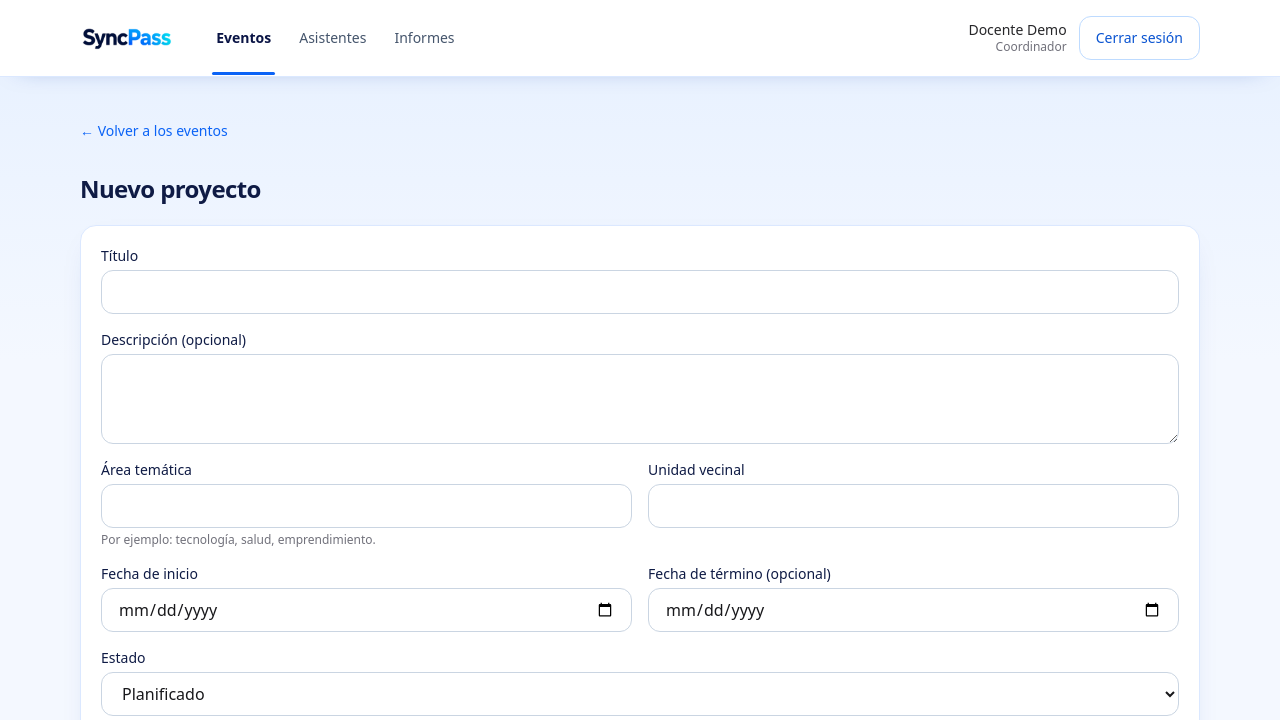
Test: formulario de proyecto › una fecha de término anterior a la de inicio se rechaza antes de enviar
Type "X" into the field labelled "Título".
click(640, 292); type("X")  # box [101,270,1179,314]
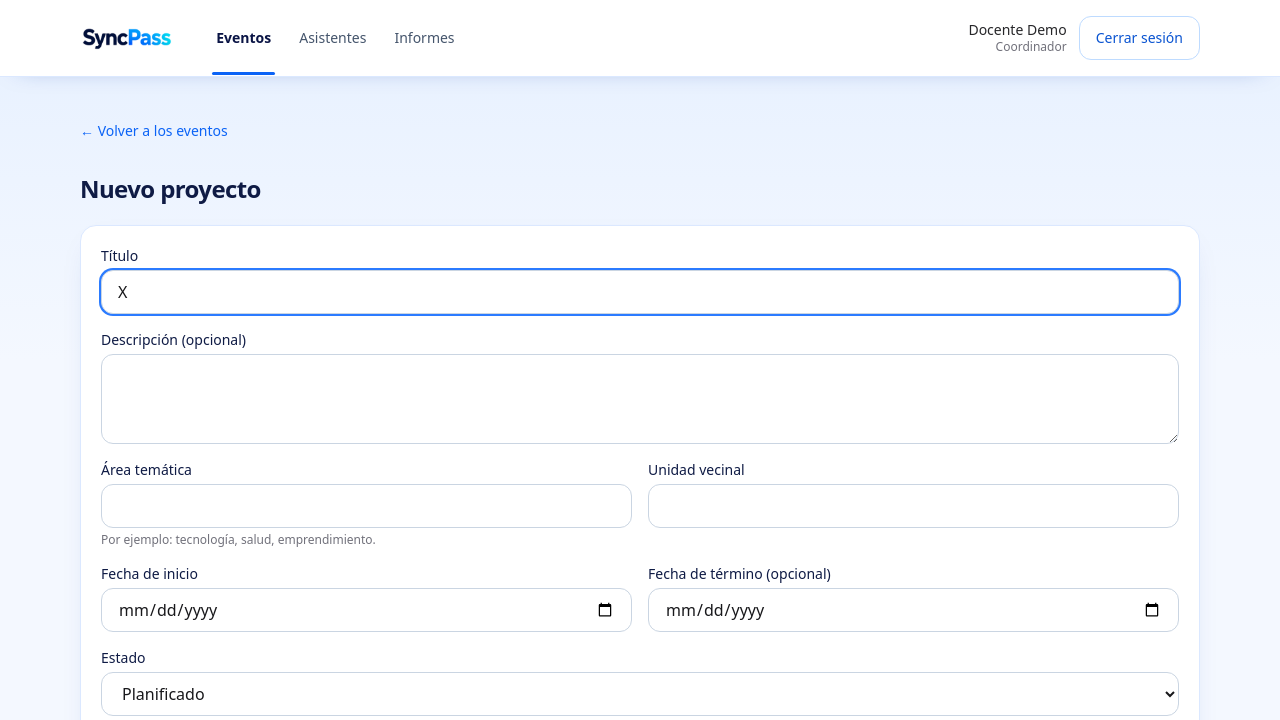
Type "a" into the field labelled "Área temática".
click(366, 506); type("a")  # box [101,484,632,528]
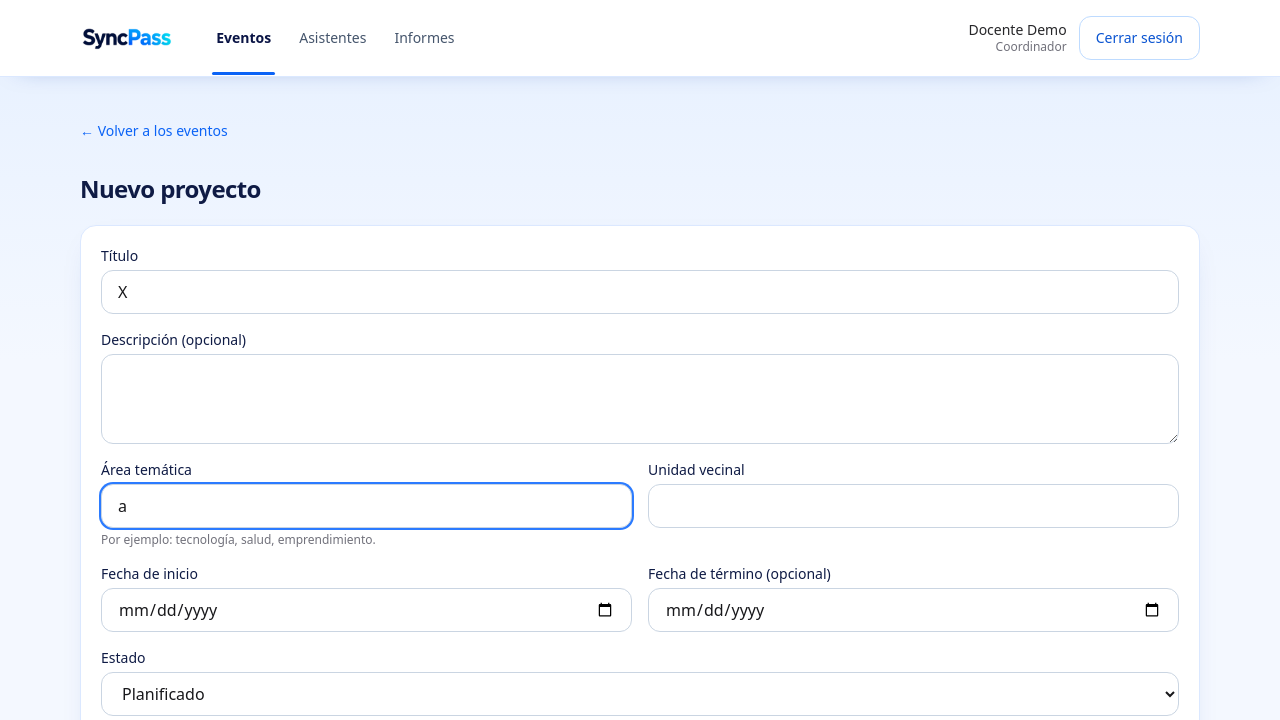
Type "b" into the field labelled "Unidad vecinal".
click(914, 506); type("b")  # box [648,484,1179,528]
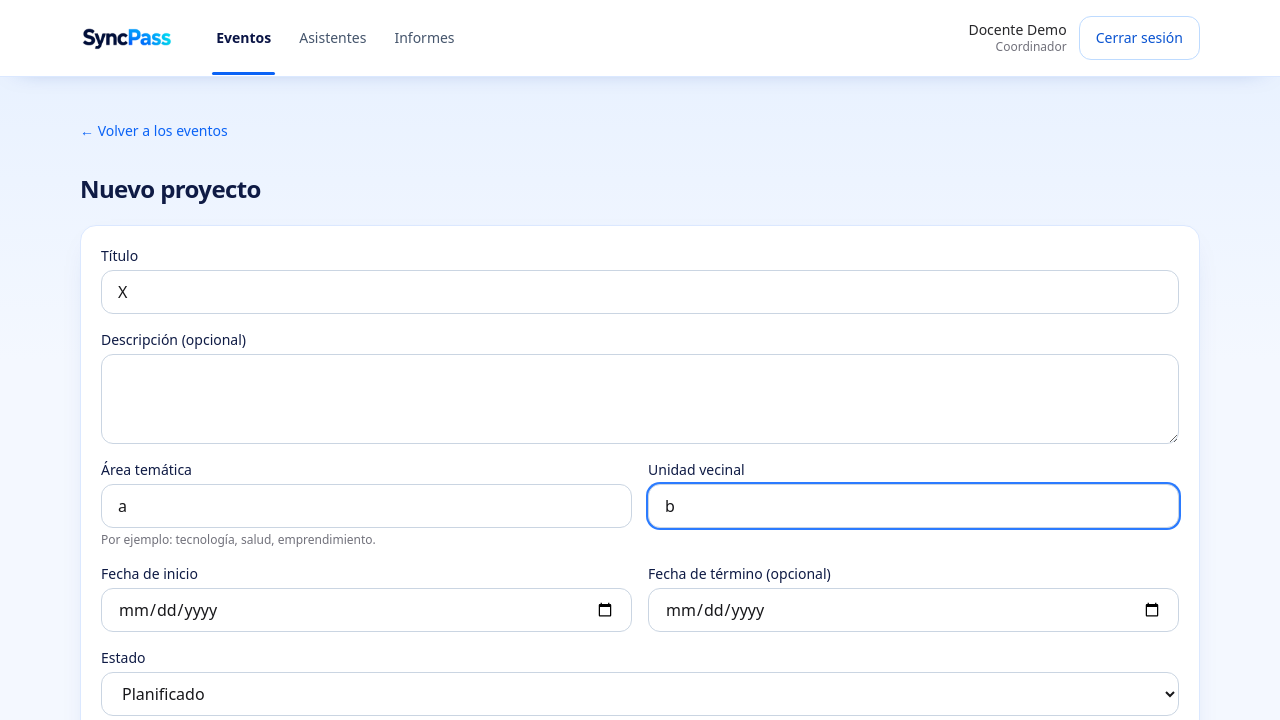
Type "2026-12-01" into the date field labelled "Fecha de inicio".
click(366, 610); type("2026-12-01")  # box [101,588,632,632]
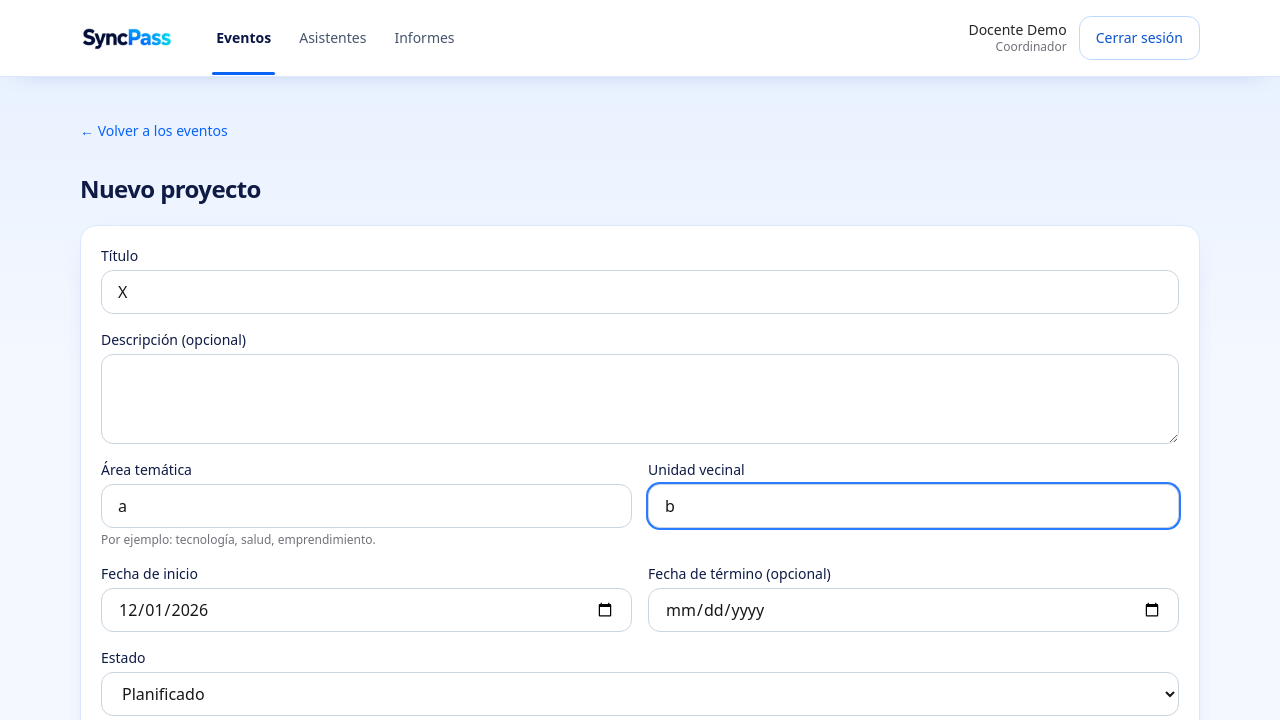
Type "2026-09-01" into the date field labelled "Fecha de término (opcional)".
click(914, 610); type("2026-09-01")  # box [648,588,1179,632]
(page scrolled)
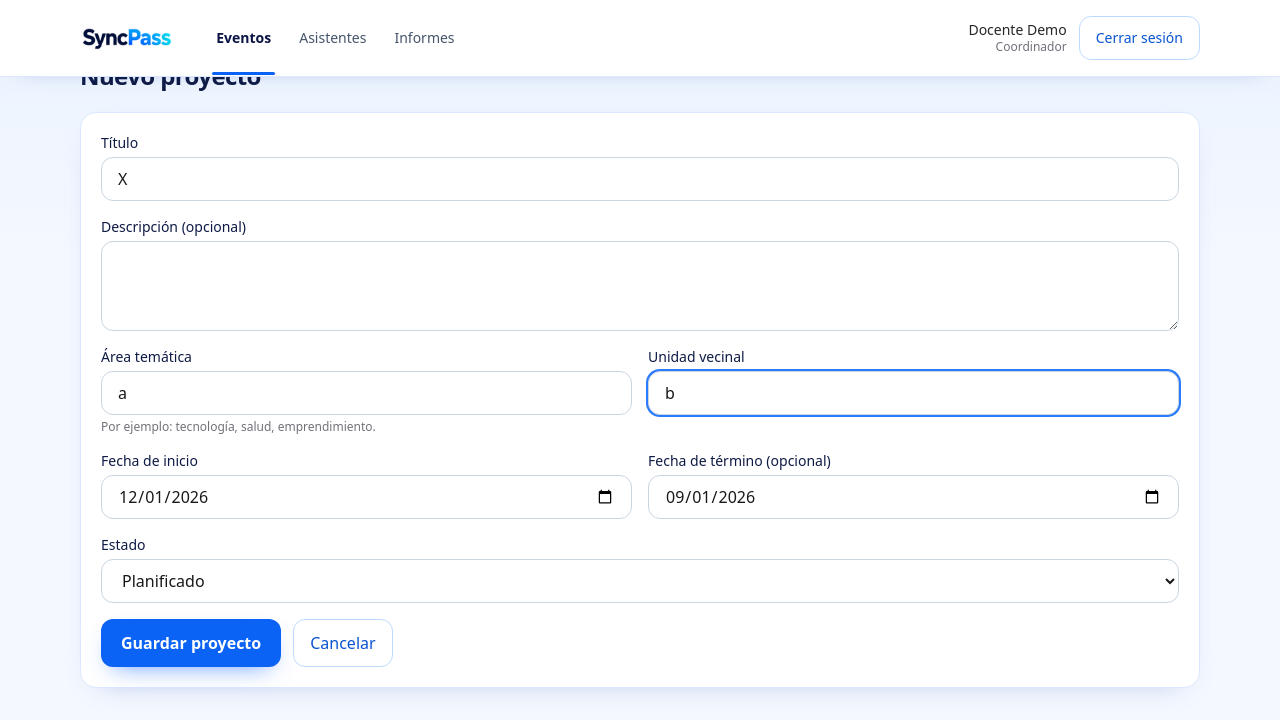
Click the button "Guardar proyecto".
click(191, 643)  # box [101,619,281,667]
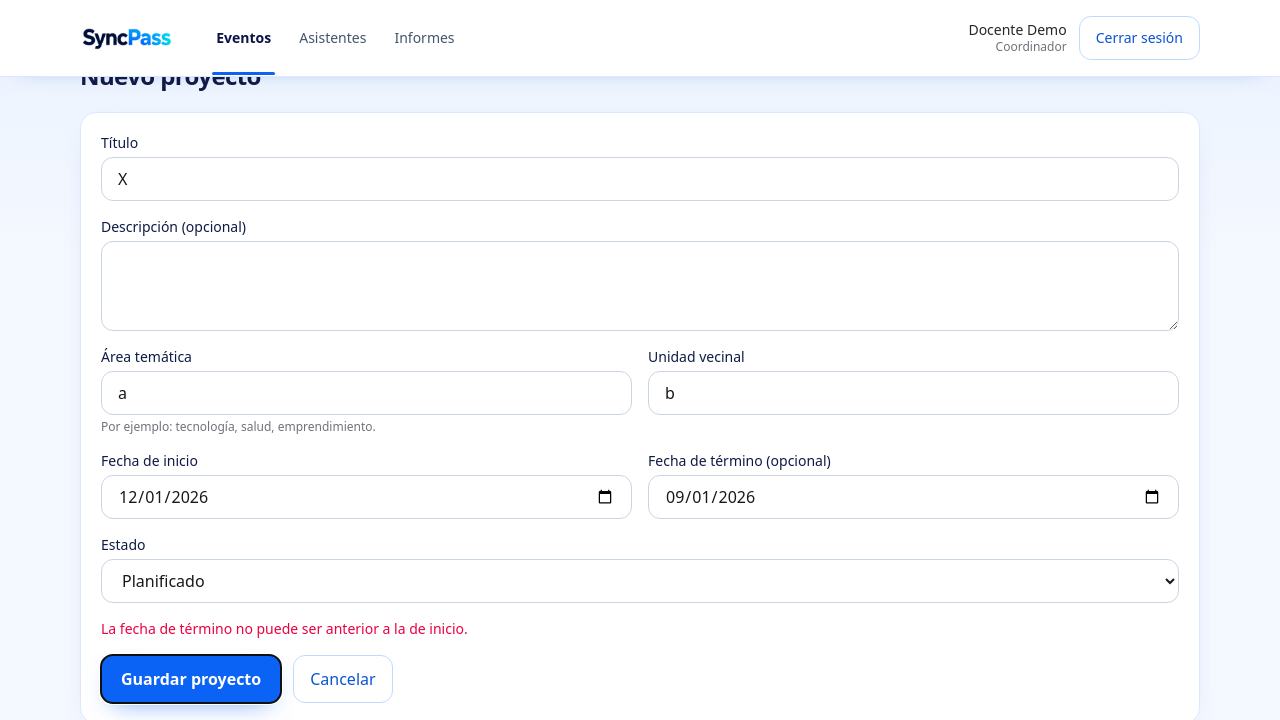
Result: the message shows "anterior a la de inicio" at [101,619,468,638]
